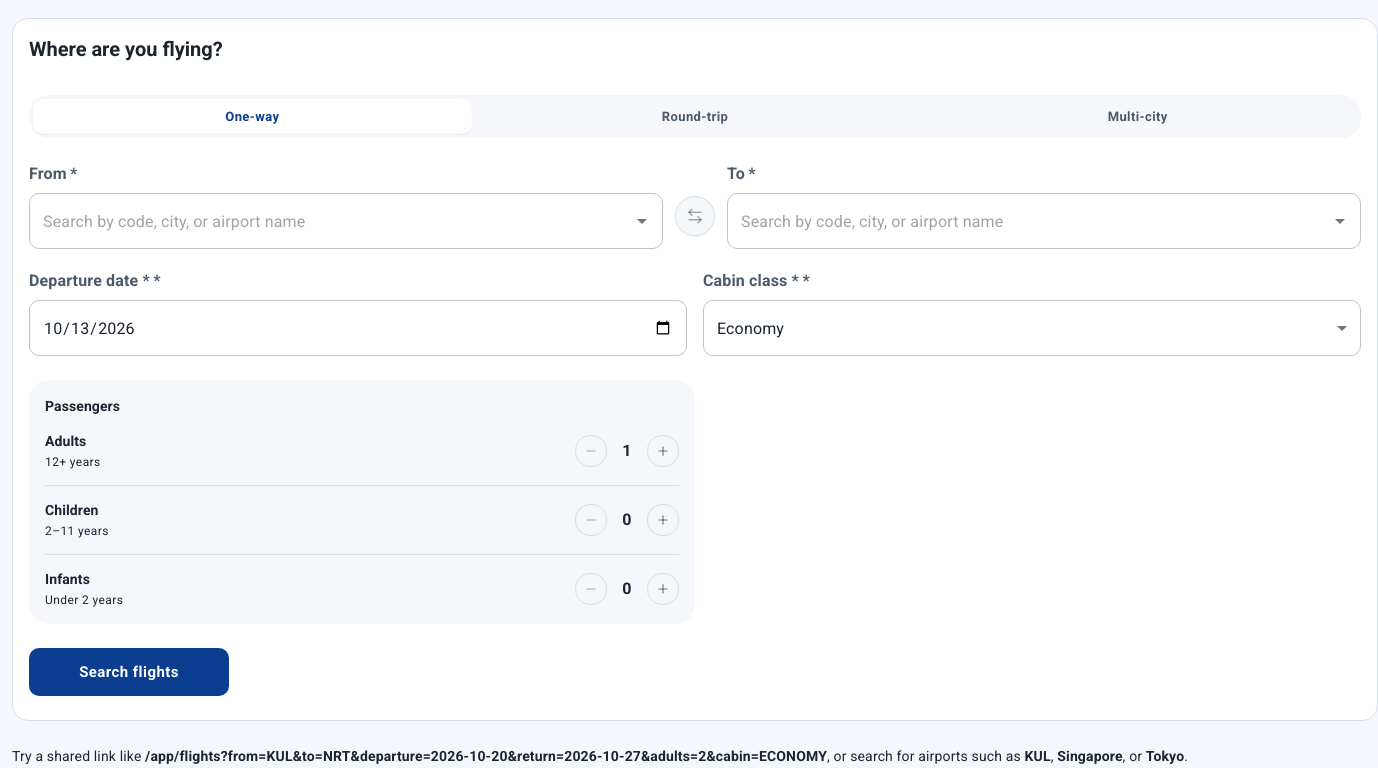
Test: SearchFlightsPage › requires airports before searching
This screenshot has width=1378, height=768.
(page scrolled)
Click the button "Search flights" at x=129, y=672, box [29,648,229,696]
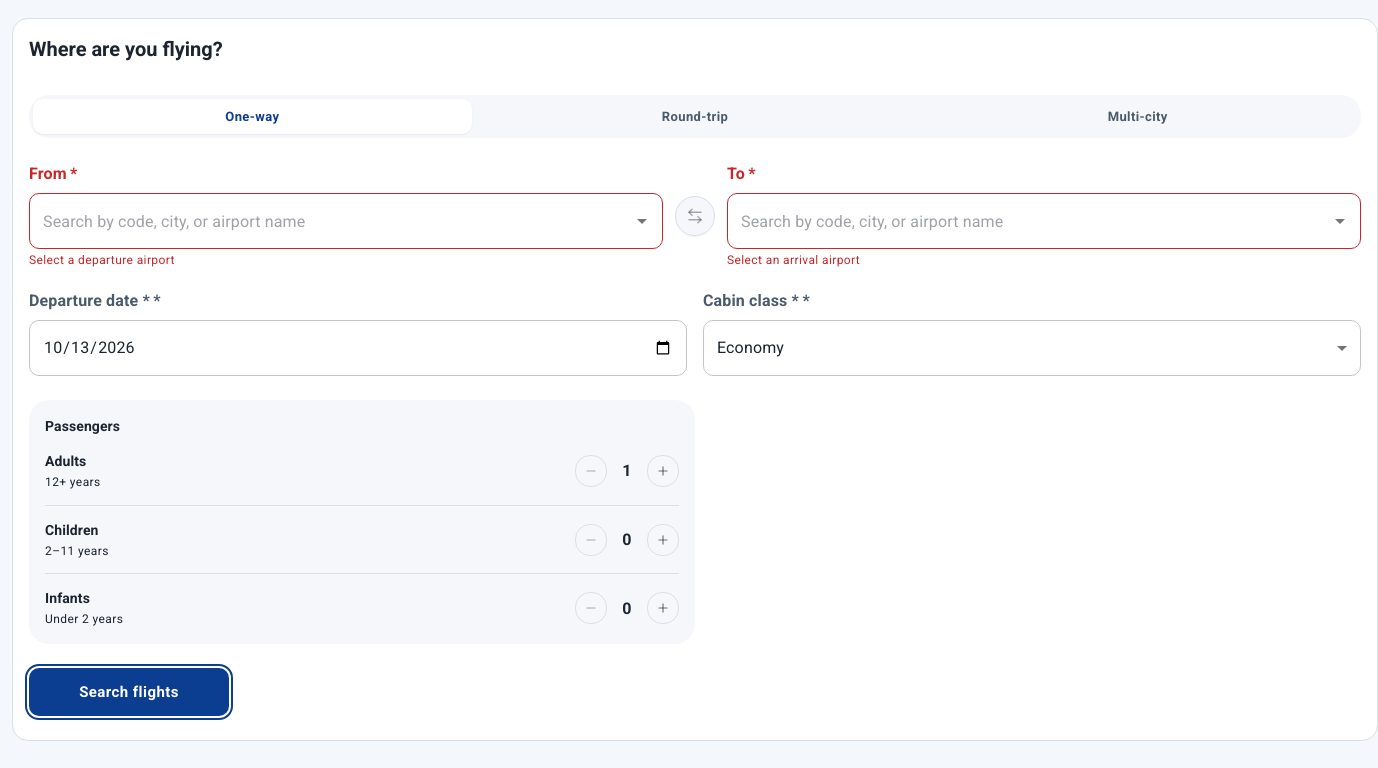
Now the text "Select a departure airport" is shown, box [29,253,175,267]
Now the text "Select an arrival airport" is shown, box [727,253,860,267]
